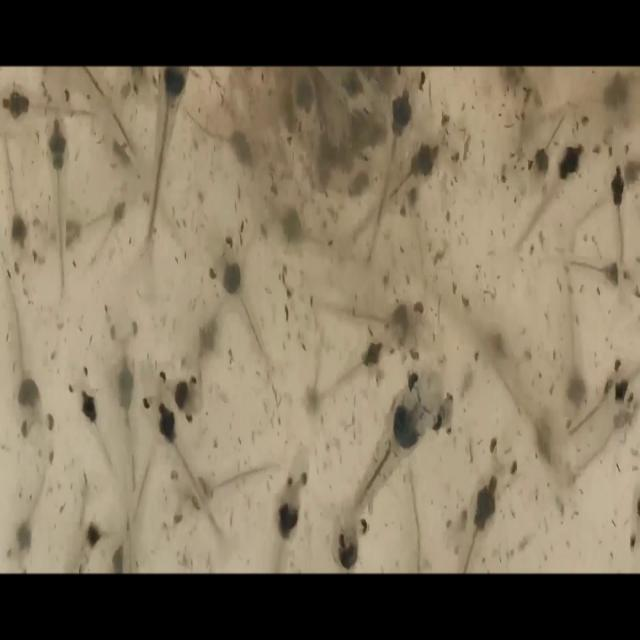shrimp3: (137, 359, 234, 561), (344, 361, 454, 524), (505, 109, 605, 272), (358, 70, 427, 277), (203, 227, 280, 387), (444, 427, 527, 570), (312, 319, 404, 416), (39, 79, 74, 305), (60, 346, 116, 483), (104, 301, 141, 501), (2, 126, 44, 281)
